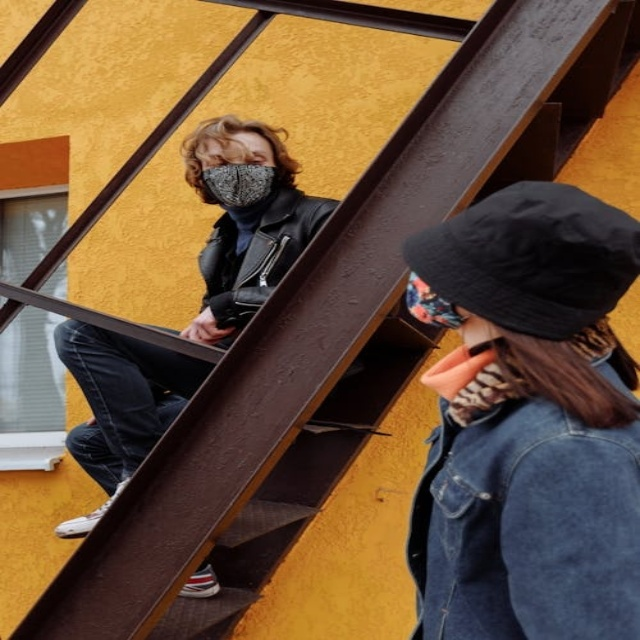Mascara: (404, 270, 467, 330), (201, 163, 277, 207)
Sin_gafas: (211, 151, 271, 165)
Sin_guantes: (180, 306, 236, 345)
